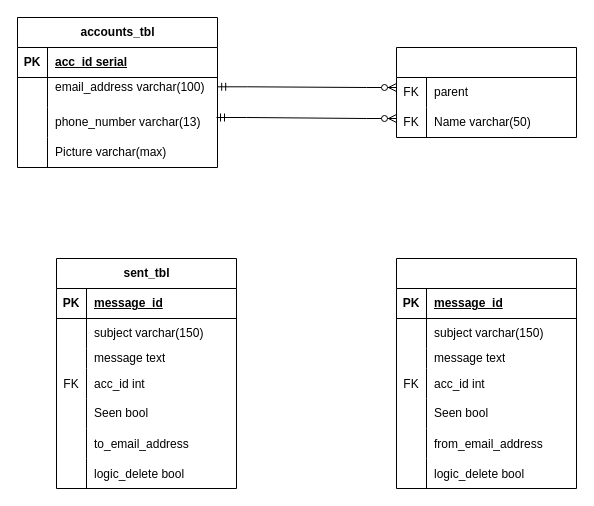
This 594x506 diagram has some shape labels left out. The shapes that lost their labels are listed below. From the top down, each one's box as (x1, y1, x2, y2) in pixels, then its label:
(396, 46, 576, 138): contacts_tbl
(396, 258, 576, 488): inbox_tbl
